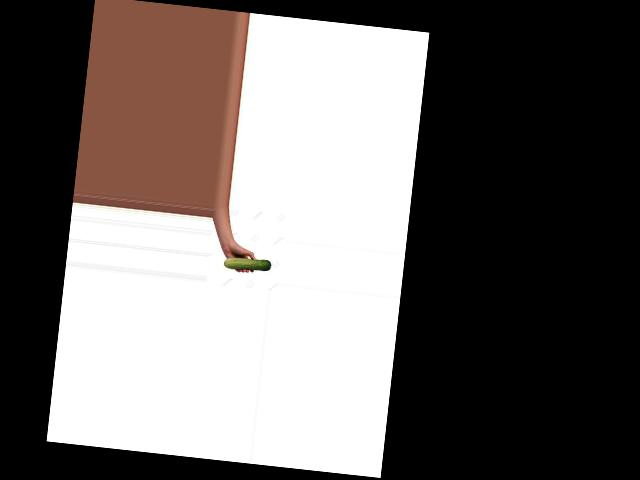cucumber: (222, 254, 272, 272)
